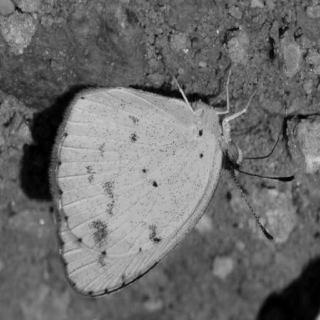other: (48, 81, 224, 303)
